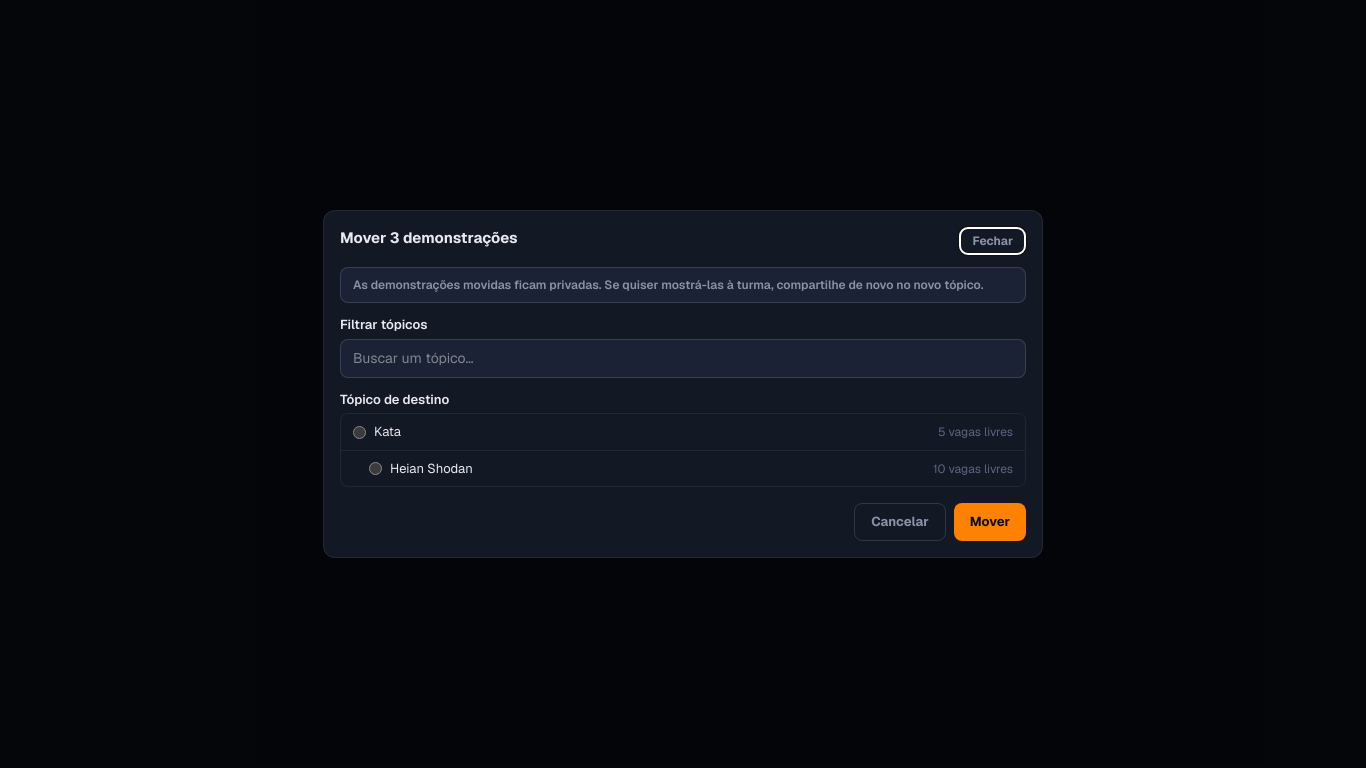
Test case: MoveDialog › translates every refusal reason
Click the radio button labelled "Kata 5 vagas livres": x=360, y=432 left=353, top=426, right=366, bottom=438
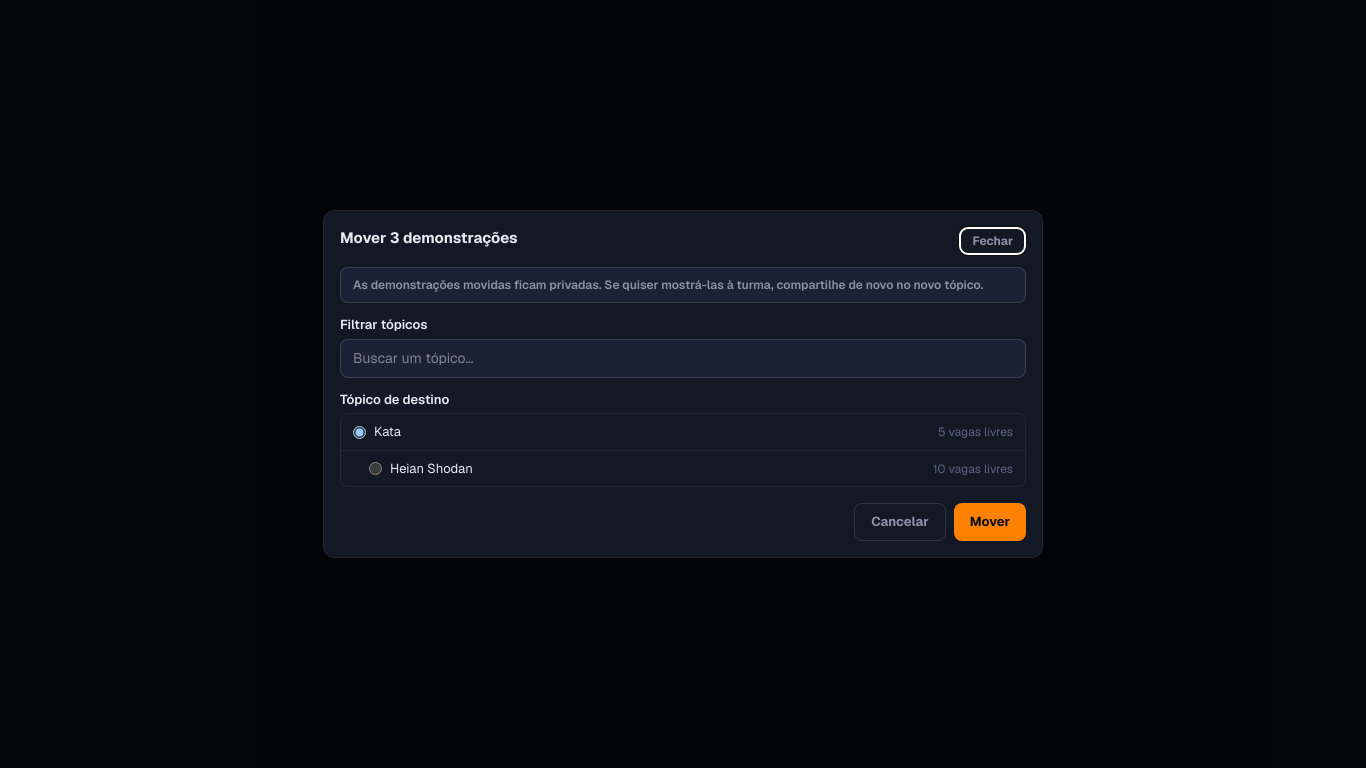
Click the button "Mover": x=990, y=522 left=954, top=503, right=1026, bottom=541
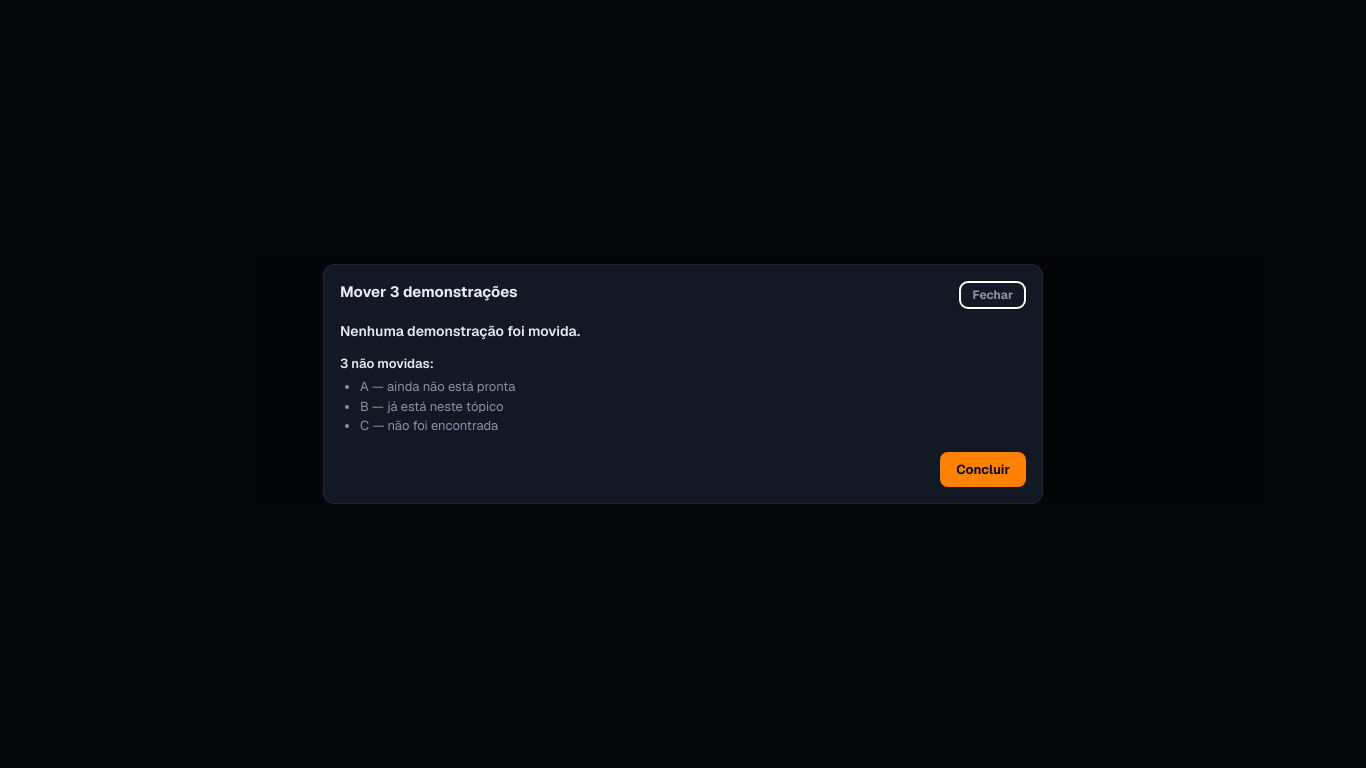
Now the message shows "Nenhuma demonstração foi movida.", box left=340, top=322, right=580, bottom=340
